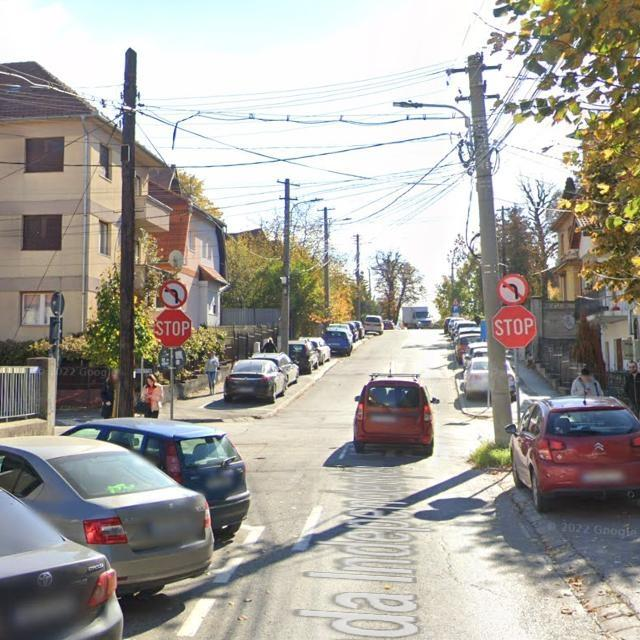prio_stop: (491, 305, 539, 347), (154, 310, 193, 346)
